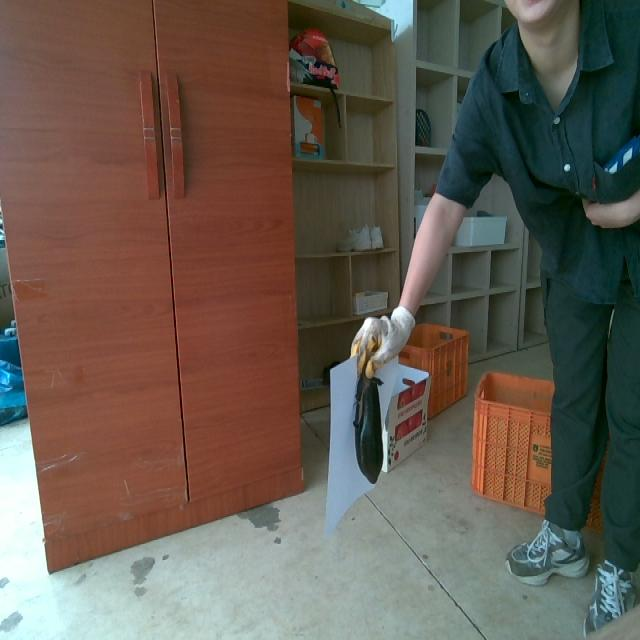Egg plant: (354, 375, 382, 483)
